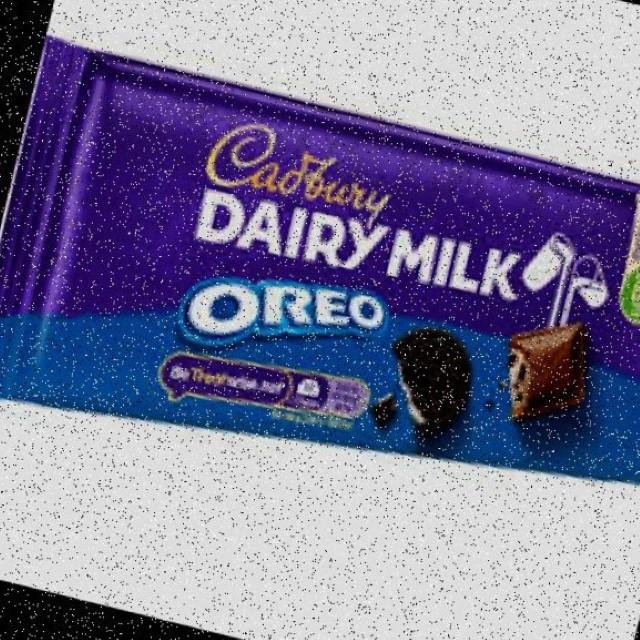cadbury_chocolate: (58, 46, 640, 493)
